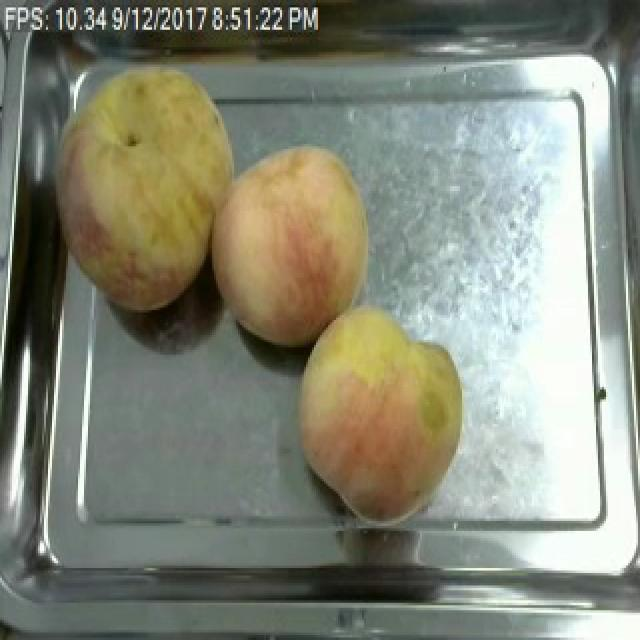Fruit: (40, 50, 252, 320), (288, 303, 474, 528), (204, 136, 380, 355)
